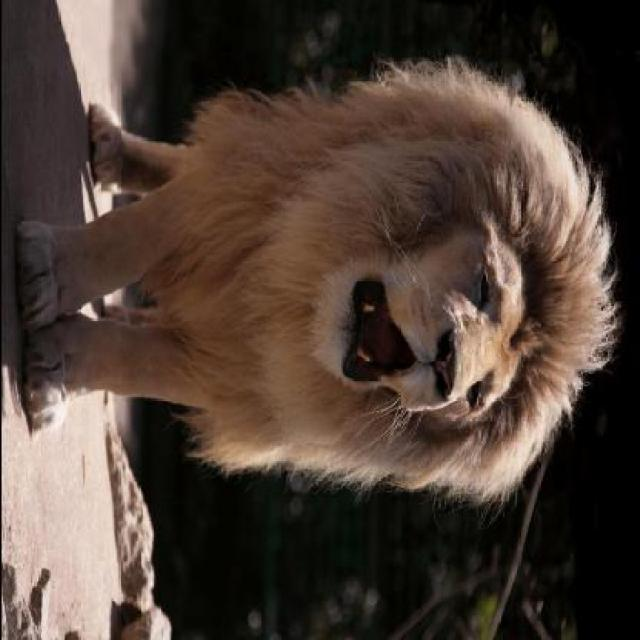Lion: (8, 83, 620, 535)
